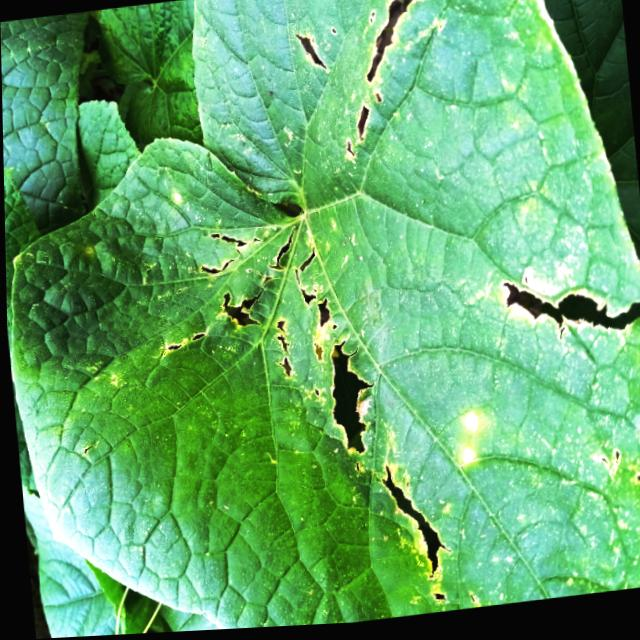Anthracnose: (159, 218, 459, 568), (283, 0, 453, 171), (489, 252, 640, 360)
